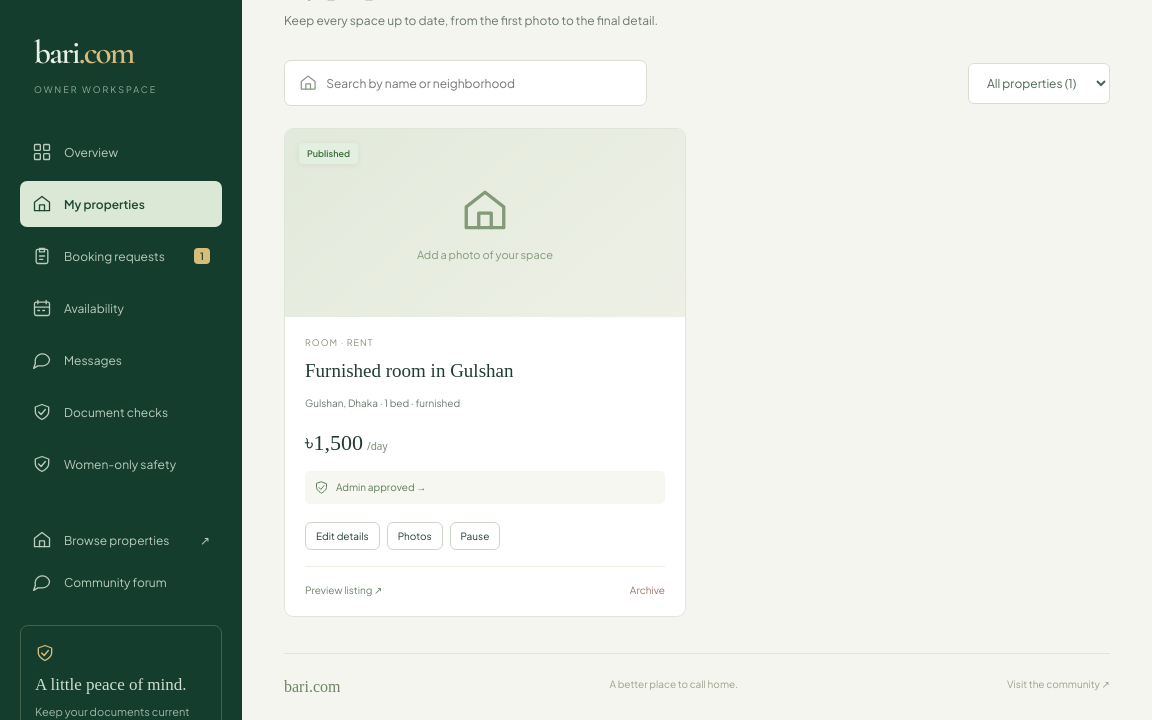
archives a listing with a confirmation that preserves booking history
(page scrolled)
What coordinates should you click on to do the following:
click the button "Archive"
I would click on:
 (647, 590)
Its box is [630,584,665,596].
(page scrolled)
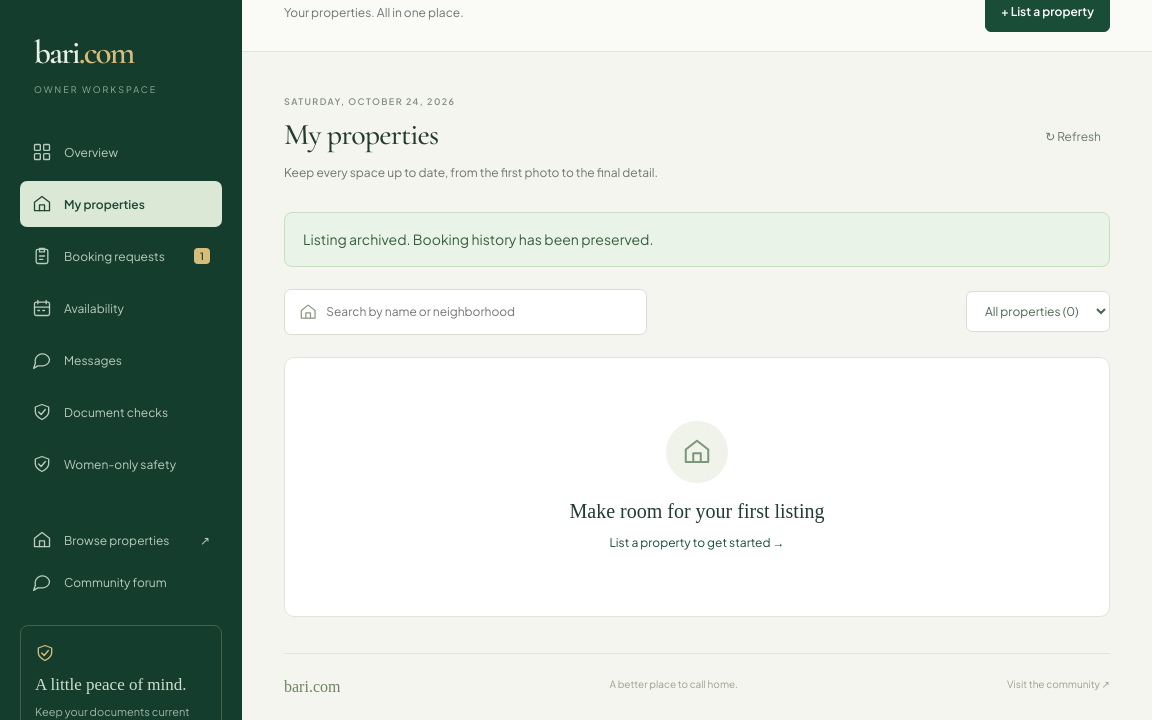
Expected: the text "Listing archived. Booking history has been preserved." is shown, [284,212,1110,266]
